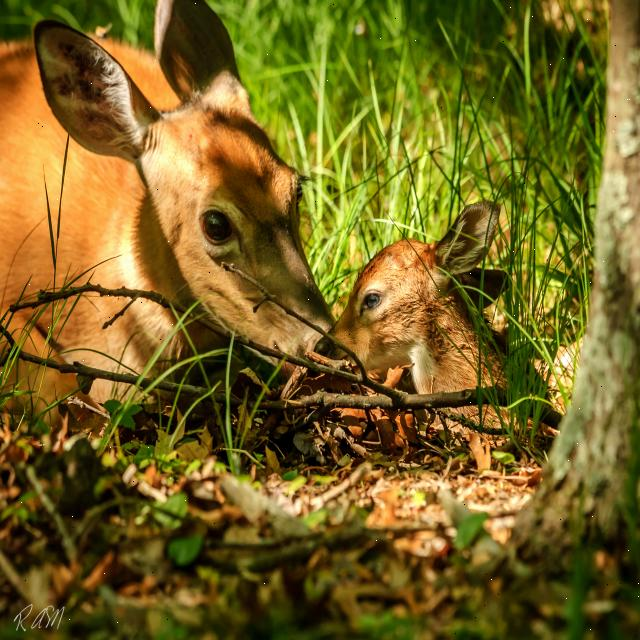deer: (30, 3, 332, 370), (303, 192, 554, 448)
